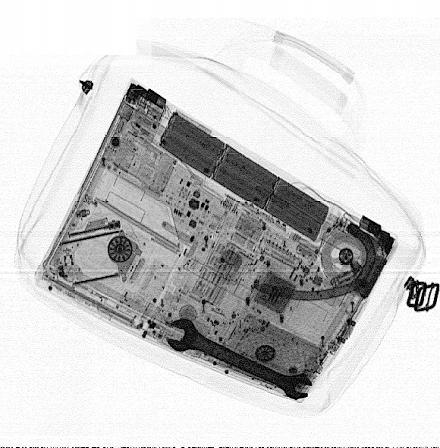Wrench: (164, 317, 314, 399)
